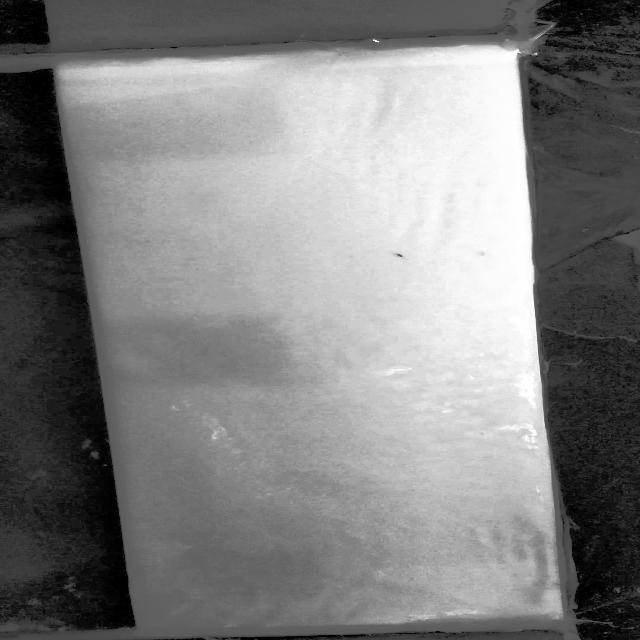shrimp: (374, 244, 425, 266)
